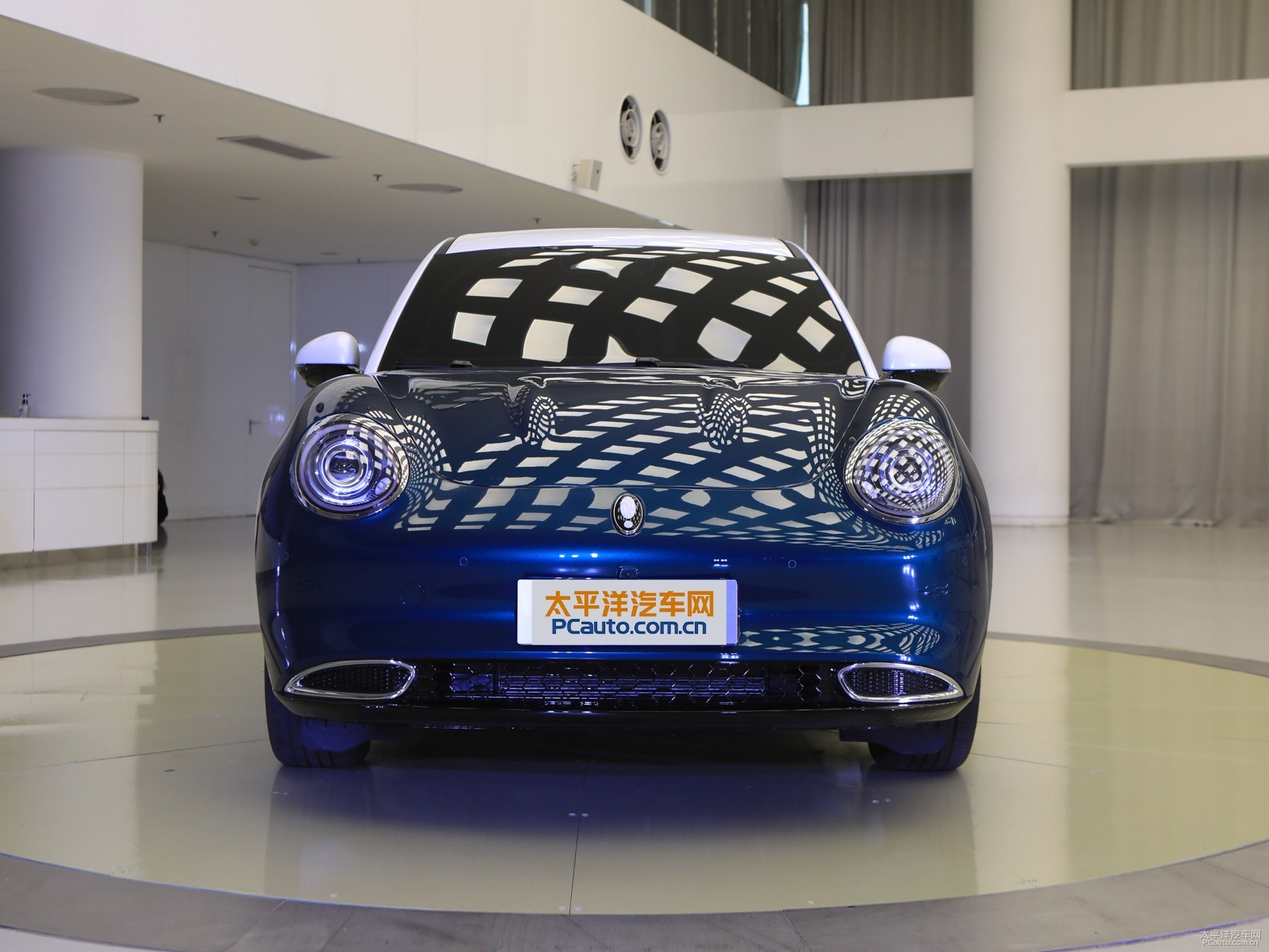ORA: (615, 494, 642, 535)
